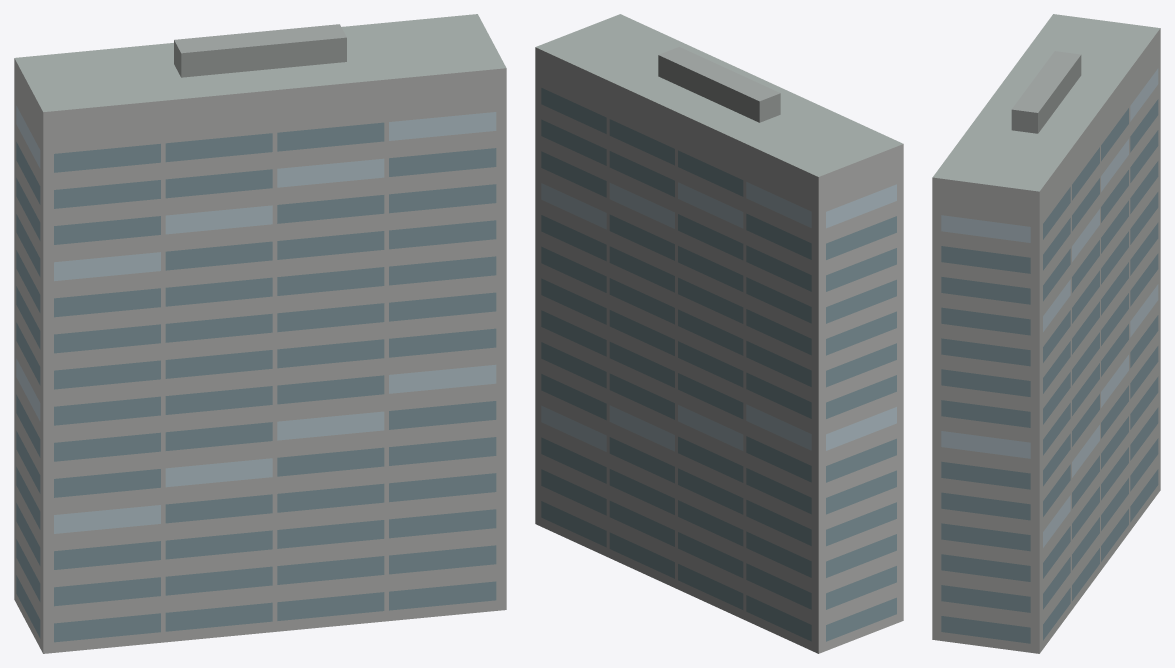
File: fallback-olympic-park-foreon-412.glb
3 views of the same model, side by side, from view 1: azimuth 30°, elevation 25°; view 2: azimuth 150°, elevation 25°; view 3: azimuth 270°, elevation 25° (orthographic). The views are drawn at different scales.
Parts seen in each view (by area): view 1: fallback-olympic-park-foreon-412; view 2: fallback-olympic-park-foreon-412; view 3: fallback-olympic-park-foreon-412.
Boxes of the visible parts, x1=… form: fallback-olympic-park-foreon-412: x1=14, y1=14, x2=506, y2=653; fallback-olympic-park-foreon-412: x1=535, y1=14, x2=903, y2=653; fallback-olympic-park-foreon-412: x1=932, y1=14, x2=1160, y2=653.
Bounding box in the file's own units: 37.7 × 47.81 × 20.45.
